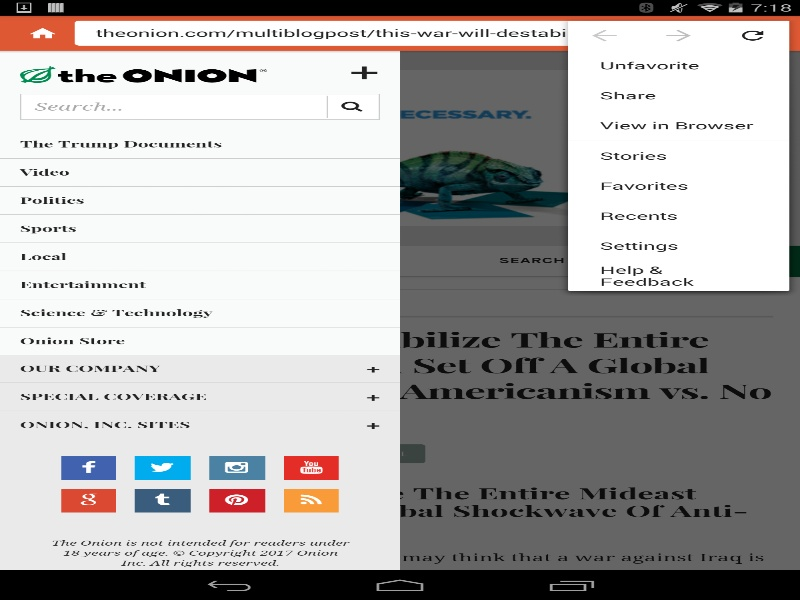Button: (10, 15, 74, 50), (725, 15, 789, 50), (2, 249, 76, 272), (13, 13, 60, 36)
Input: (74, 20, 725, 45)
